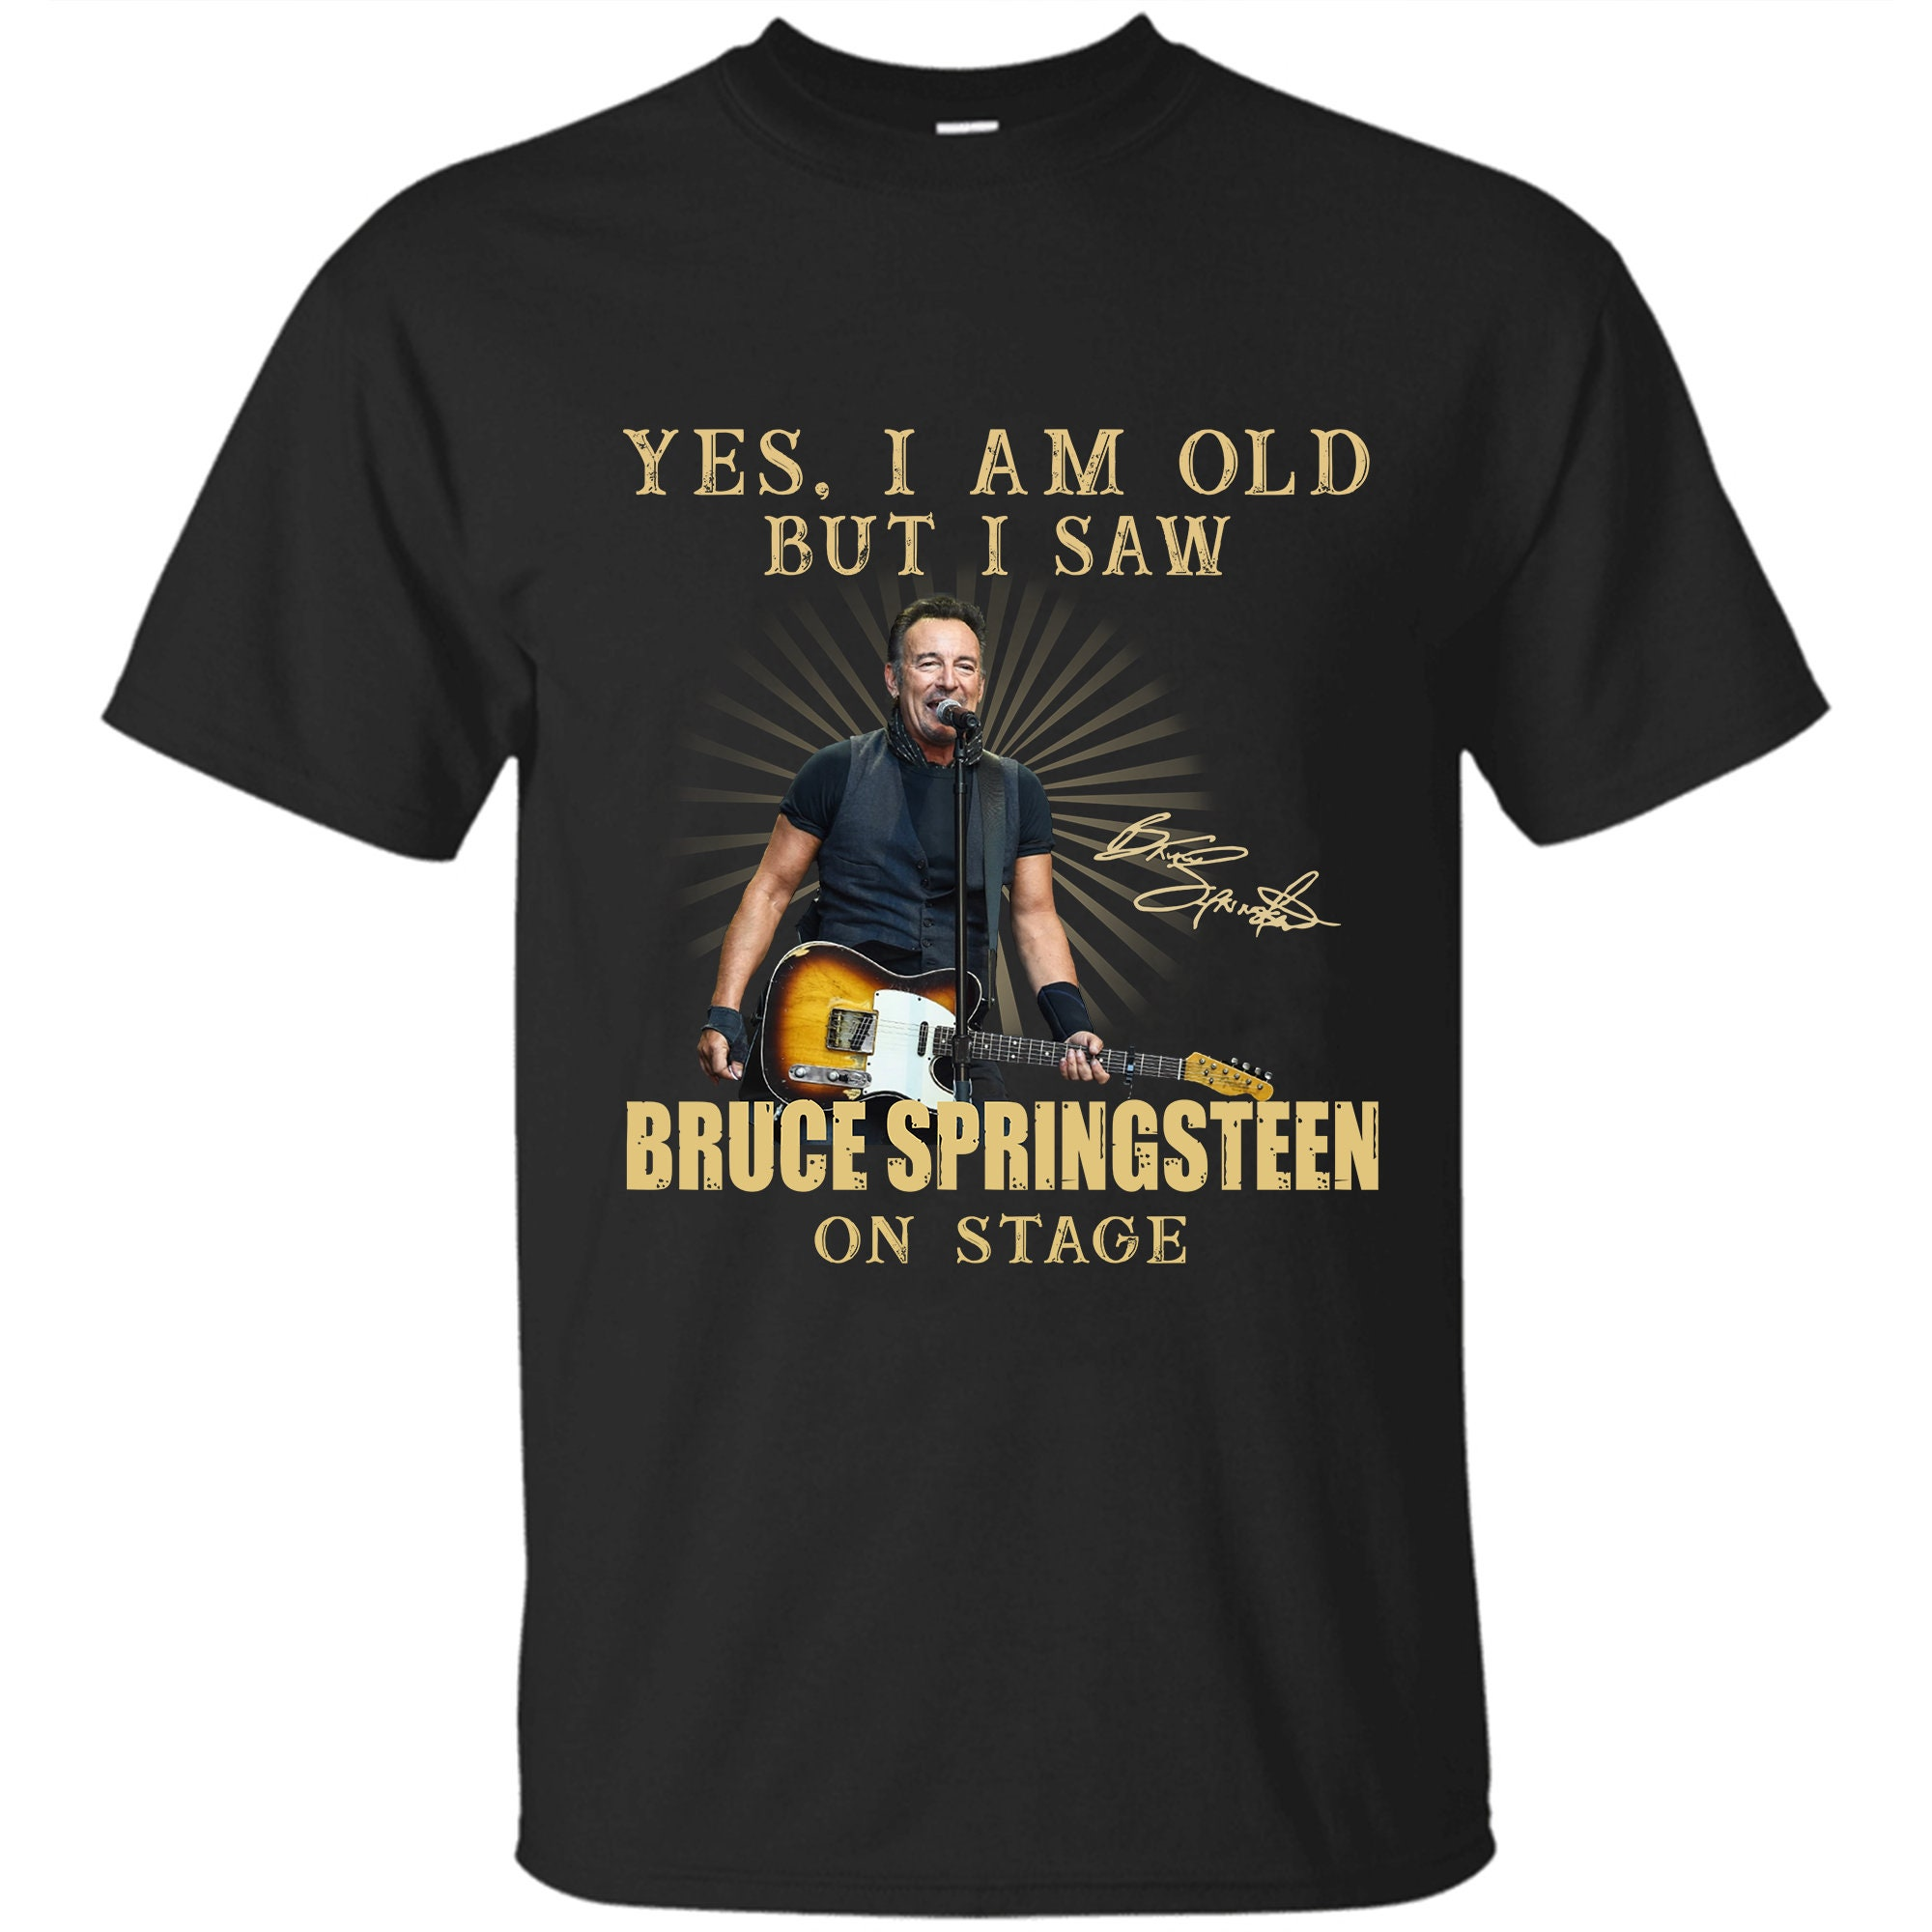design: (617, 414, 1389, 1274)
